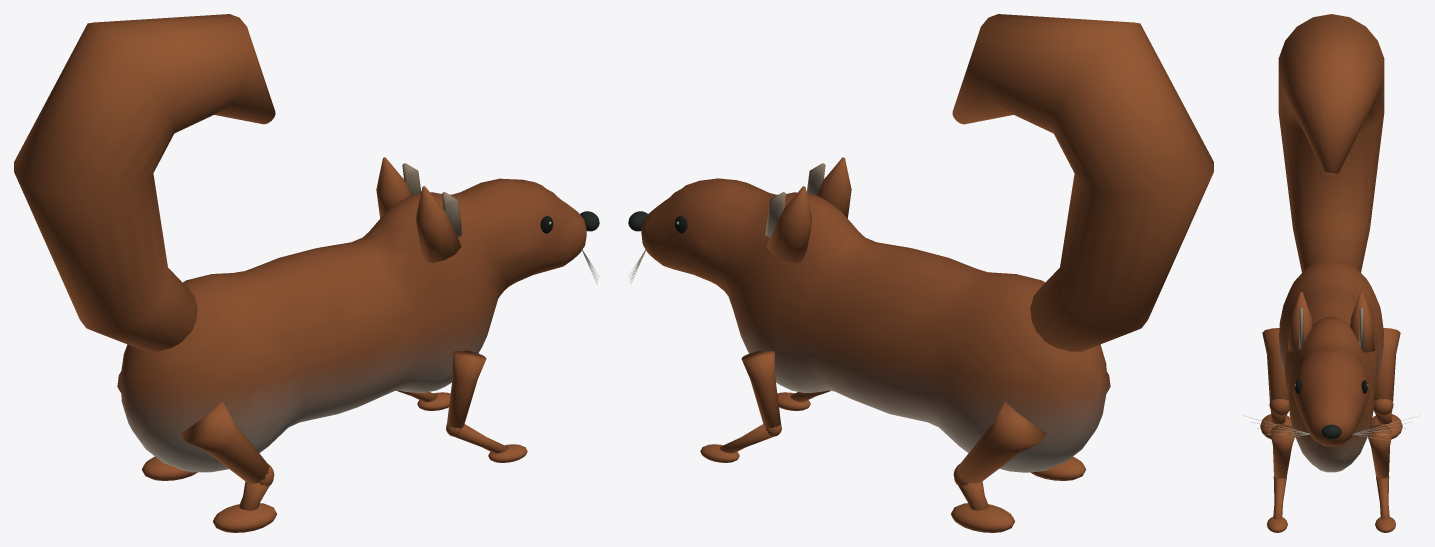
The model's file is wildlife-sciurus_vulgaris.glb.
The picture shows the model from 3 angles, left to right: view 1: azimuth 30°, elevation 25°; view 2: azimuth 150°, elevation 25°; view 3: azimuth 270°, elevation 25°; orthographic projection. The views are drawn at different scales.
Visible parts, largest first — view 1: sciurus_vulgaris; view 2: sciurus_vulgaris; view 3: sciurus_vulgaris.
Part boxes in pixels (x1,y1,x2,y2): sciurus_vulgaris: (14,14,599,532); sciurus_vulgaris: (628,14,1213,532); sciurus_vulgaris: (1243,14,1419,532).
Bounding box in the file's own units: 0.42 × 0.3489 × 0.1477.
